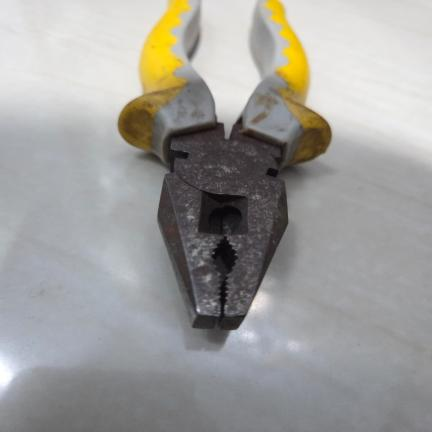karat: (157, 124, 288, 316)
